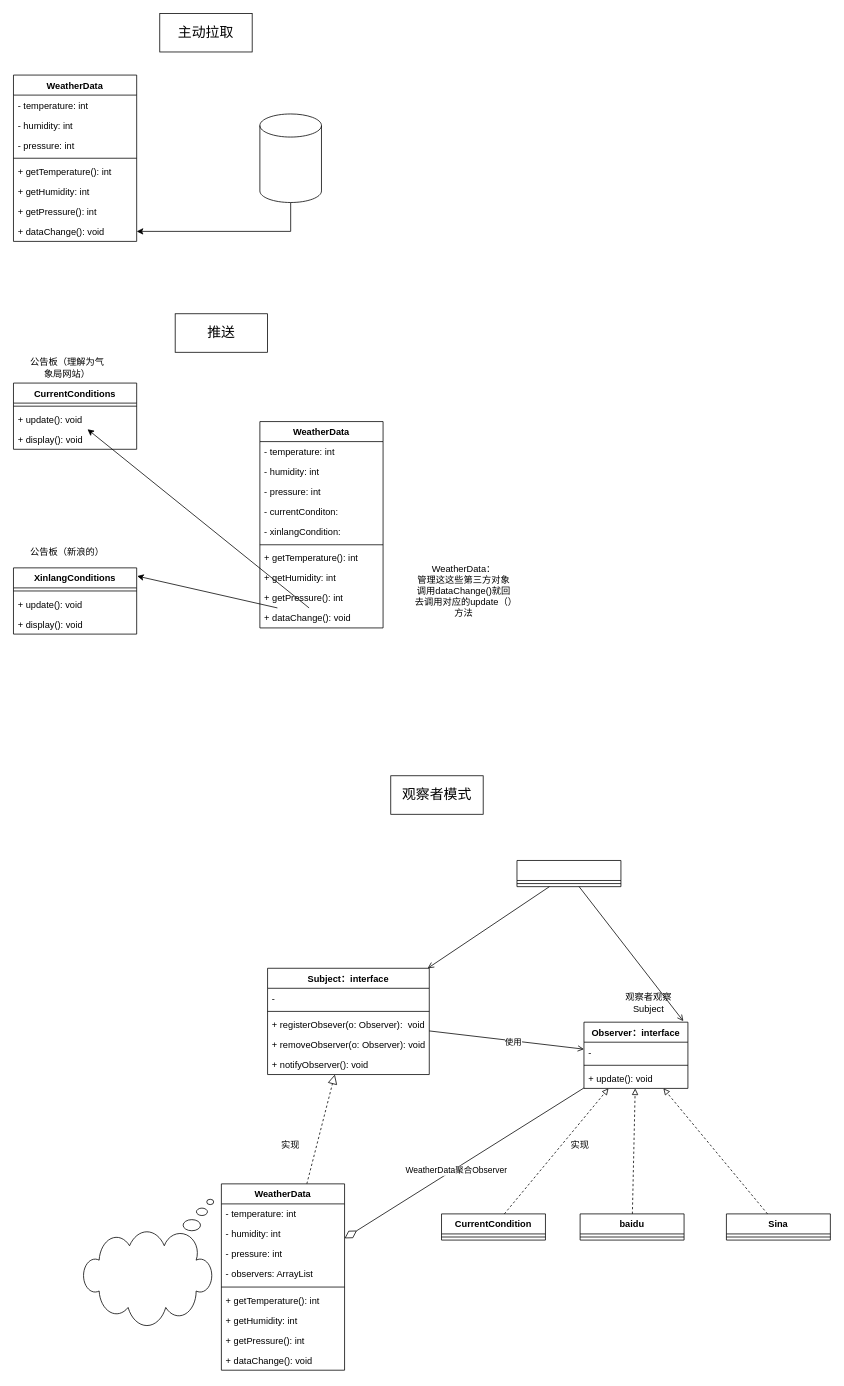
Some shapes in this 844 by 1386 pixel diagram are drawn without their labels. Each missing label, with the centre of its shape:
Client: pixel 568 873
核心类： 1，天气信息 2，管理观察者Observers 2.1 注册，移除，通知等: pixel 148 1262
气象站: pixel 290 158
